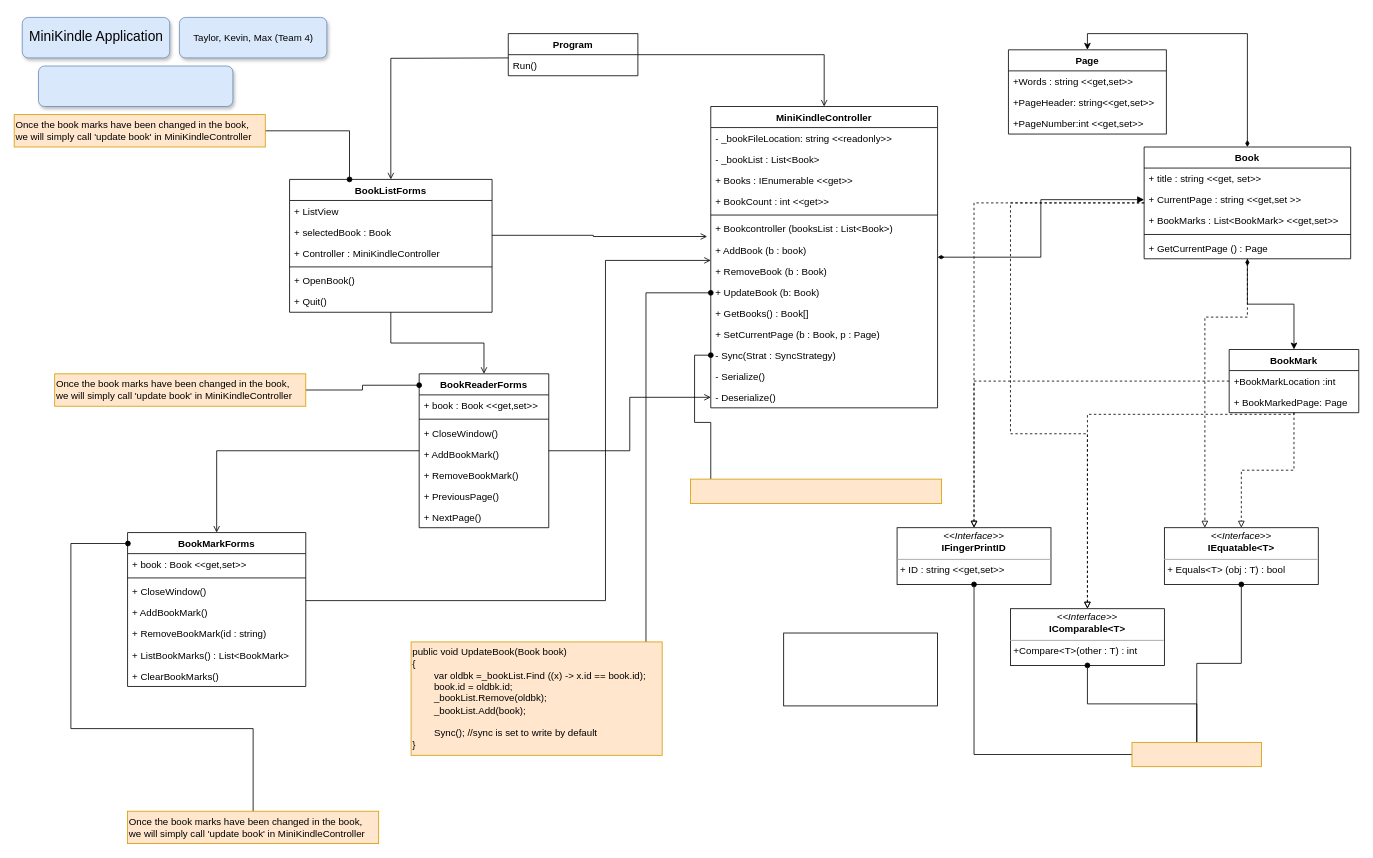
Some shapes in this 1373 by 858 pixel diagram are drawn without their labels. The shapes that lost their labels are listed below. From the top down, each one's centre as x and y in pixels, then its label:
At point (136, 87): "Added more information to explain our process (why we did what we did)".
At point (816, 490): "Sync is private to handle serializing collision problems".
At point (860, 669): "<<Enum>> SyncStrategy Fetch Write".
At point (1196, 754): "Sorting/Searching/Setting".
